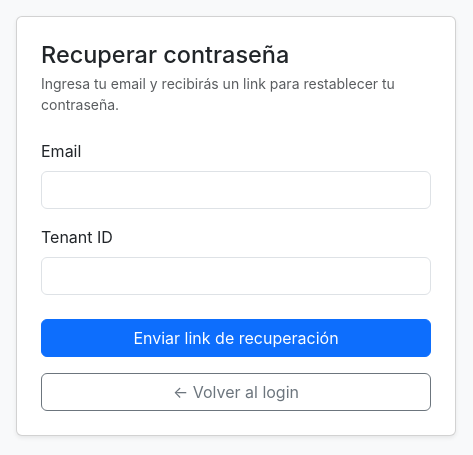
Test: ForgotPasswordPage › muestra mensaje de confirmación tras submit exitoso
In the field labelled "Email": (236, 190) [41, 171, 431, 209], type "user@acme.com"
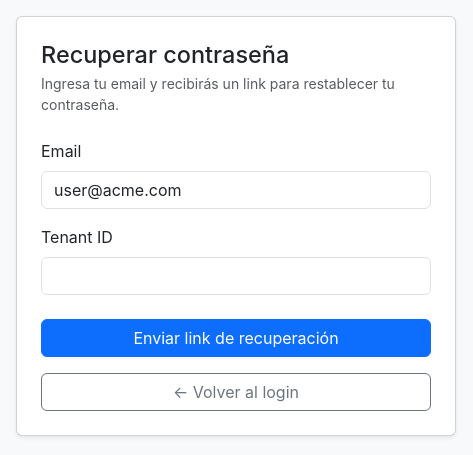
In the field labelled "Tenant ID": (236, 276) [41, 257, 431, 295], type "acme"
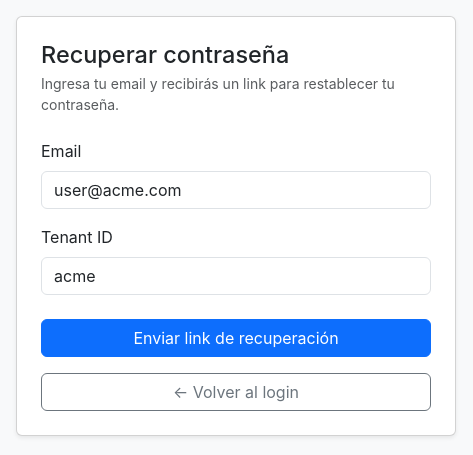
Click the button "Enviar link de recuperación": (236, 338) [41, 319, 431, 357]
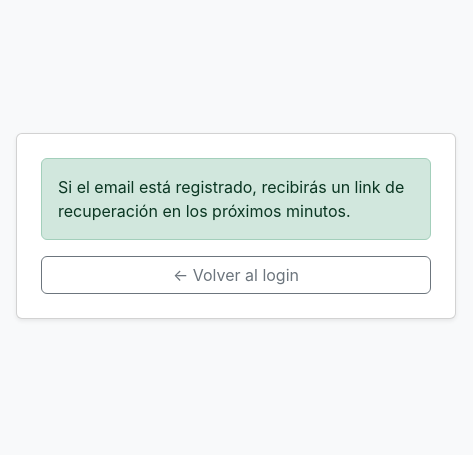
Expected: the text "Si el email está registrado" is shown, [58, 177, 404, 221]
